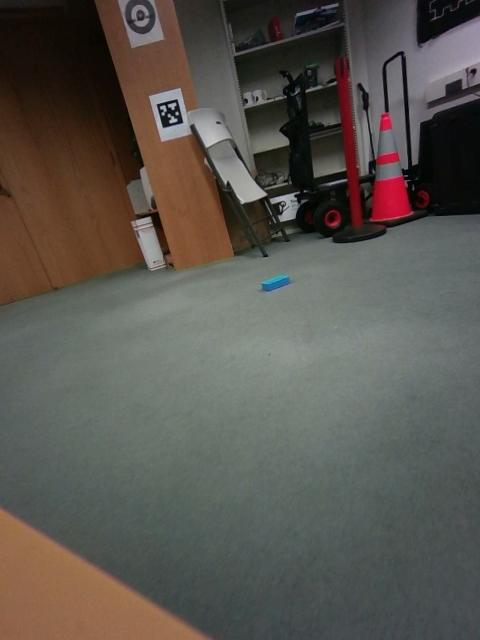block: (162, 327, 208, 379)
